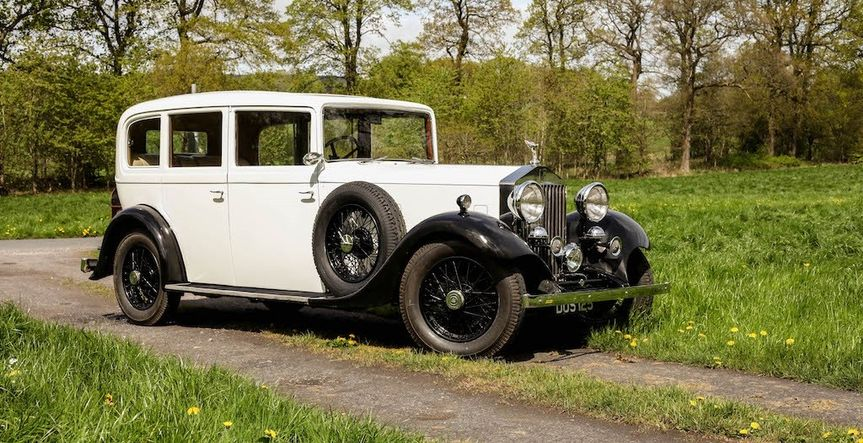Vehicle: (87, 75, 666, 356)
